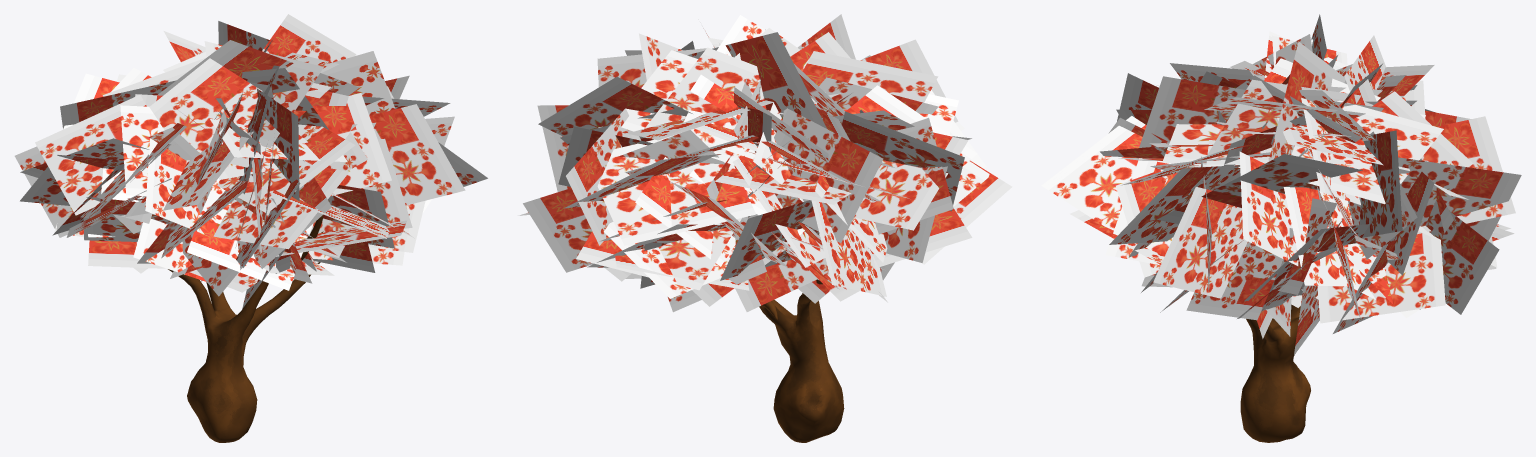
Rendered from Flamboyant.fbx.
3 views of the same model, side by side, from view 1: azimuth 30°, elevation 25°; view 2: azimuth 150°, elevation 25°; view 3: azimuth 270°, elevation 25° (orthographic). The views are drawn at different scales.
Visible parts, largest first — view 1: Feuillage, PM3D_Cylinder3D_1; view 2: Feuillage, PM3D_Cylinder3D_1; view 3: Feuillage, PM3D_Cylinder3D_1.
Part boxes in pixels (bbox=[...]): Feuillage: bbox=[14, 14, 487, 308]; PM3D_Cylinder3D_1: bbox=[168, 215, 323, 442]; Feuillage: bbox=[518, 14, 1012, 312]; PM3D_Cylinder3D_1: bbox=[759, 279, 844, 442]; Feuillage: bbox=[1041, 14, 1521, 355]; PM3D_Cylinder3D_1: bbox=[1240, 304, 1310, 442].
Bounding box in the file's own units: 27.44 × 25.48 × 27.32.
2 materials, 2 textured.
